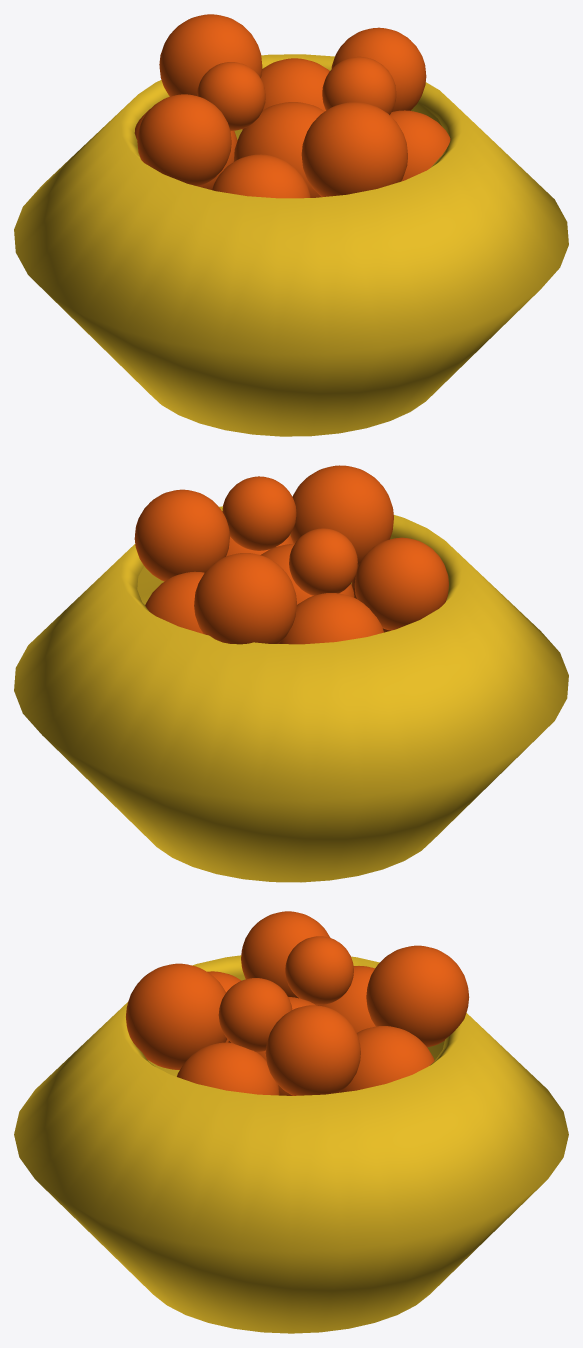
3 views of the same model, one above another, from view 1: azimuth 30°, elevation 25°; view 2: azimuth 150°, elevation 25°; view 3: azimuth 270°, elevation 25° (orthographic).
Visible parts, largest first — view 1: Cylinder.028, Sphere.006, Sphere.009, Sphere.007, Sphere.001, Sphere.008, Sphere.011, Sphere.004, Sphere.010, Sphere.003, Sphere.005; view 2: Cylinder.028, Sphere.007, Sphere.008, Sphere.009, Sphere.006, Sphere.010, Sphere.002, Sphere.011, Sphere.003, Sphere.001; view 3: Cylinder.028, Sphere.006, Sphere.007, Sphere.008, Sphere.009, Sphere.010, Sphere.011, Sphere.003, Sphere.005, Sphere.002.
Part boxes in pixels (box(x1,y1,x2,y2)): Cylinder.028: box(14, 54, 568, 436); Sphere.006: box(301, 102, 407, 197); Sphere.009: box(137, 94, 231, 186); Sphere.007: box(159, 14, 262, 96); Sphere.001: box(233, 102, 324, 197); Sphere.008: box(331, 27, 426, 111); Sphere.011: box(197, 62, 265, 130); Sphere.004: box(212, 154, 310, 198); Sphere.010: box(322, 56, 396, 114); Sphere.003: box(242, 58, 329, 129); Sphere.005: box(390, 110, 450, 181); Cylinder.028: box(14, 506, 568, 882); Sphere.007: box(194, 553, 296, 644); Sphere.008: box(134, 489, 229, 581); Sphere.009: box(354, 537, 448, 630); Sphere.006: box(290, 465, 393, 568); Sphere.010: box(222, 476, 296, 550); Sphere.002: box(279, 593, 383, 644); Sphere.011: box(289, 528, 357, 595); Sphere.003: box(145, 571, 204, 633); Sphere.001: box(260, 543, 354, 604); Cylinder.028: box(14, 955, 568, 1333); Sphere.006: box(126, 963, 227, 1069); Sphere.007: box(366, 945, 469, 1047); Sphere.008: box(265, 1005, 360, 1095); Sphere.009: box(241, 911, 330, 998); Sphere.010: box(218, 978, 292, 1051); Sphere.011: box(285, 936, 353, 1004); Sphere.003: box(340, 1026, 434, 1092); Sphere.005: box(177, 1042, 279, 1095); Sphere.002: box(316, 966, 375, 1032).
Size of the model in its own units: 0.519 by 0.3233 by 0.519.
